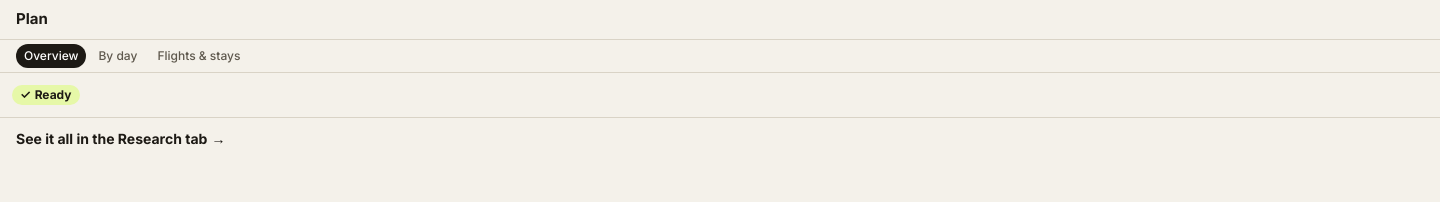
Test: ResearchPlanPanel › degrades a failed place lookup to the stop's own title
The width and height of the screenshot is (1440, 202).
Click the button "By day" at {"x": 118, "y": 56}, box [90,44,145,68]
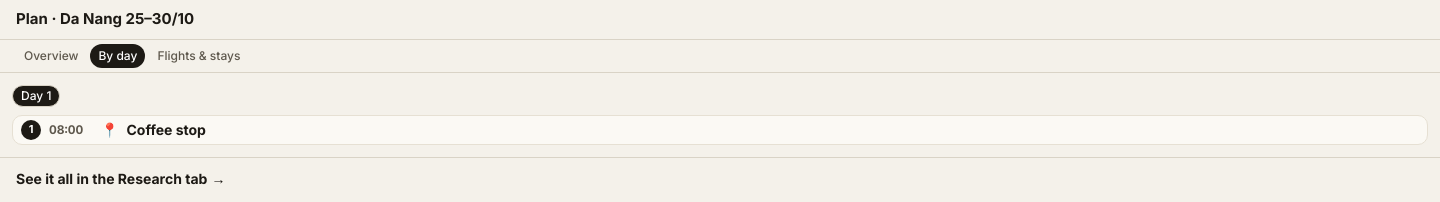
Now the text "Coffee stop" is shown, box [126,120,206,138]
